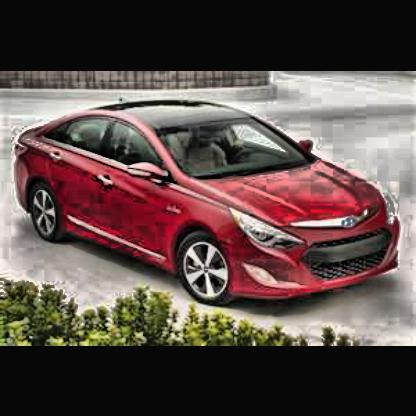Hyundai Sonata Hybrid Sedan 2012: (15, 100, 401, 306)
